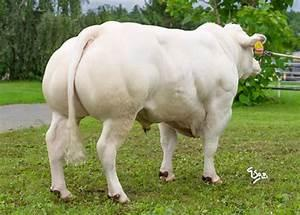cow: (41, 19, 266, 204)
